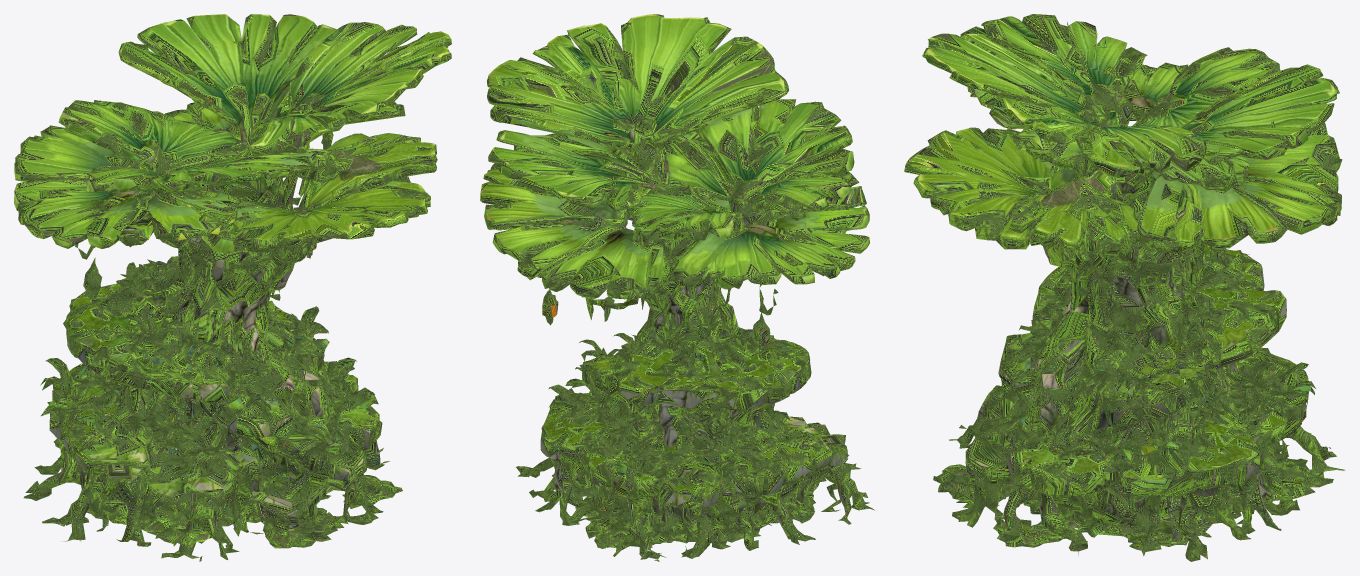
The model's file is giant-canopy-tree.glb.
3 renders of one model, left to right at view 1: azimuth 30°, elevation 25°; view 2: azimuth 150°, elevation 25°; view 3: azimuth 270°, elevation 25°, orthographic. The views are drawn at different scales.
Bounding box in the file's own units: 1.85 × 1.9 × 1.62.
Materials: 1 (1 with a texture image).
